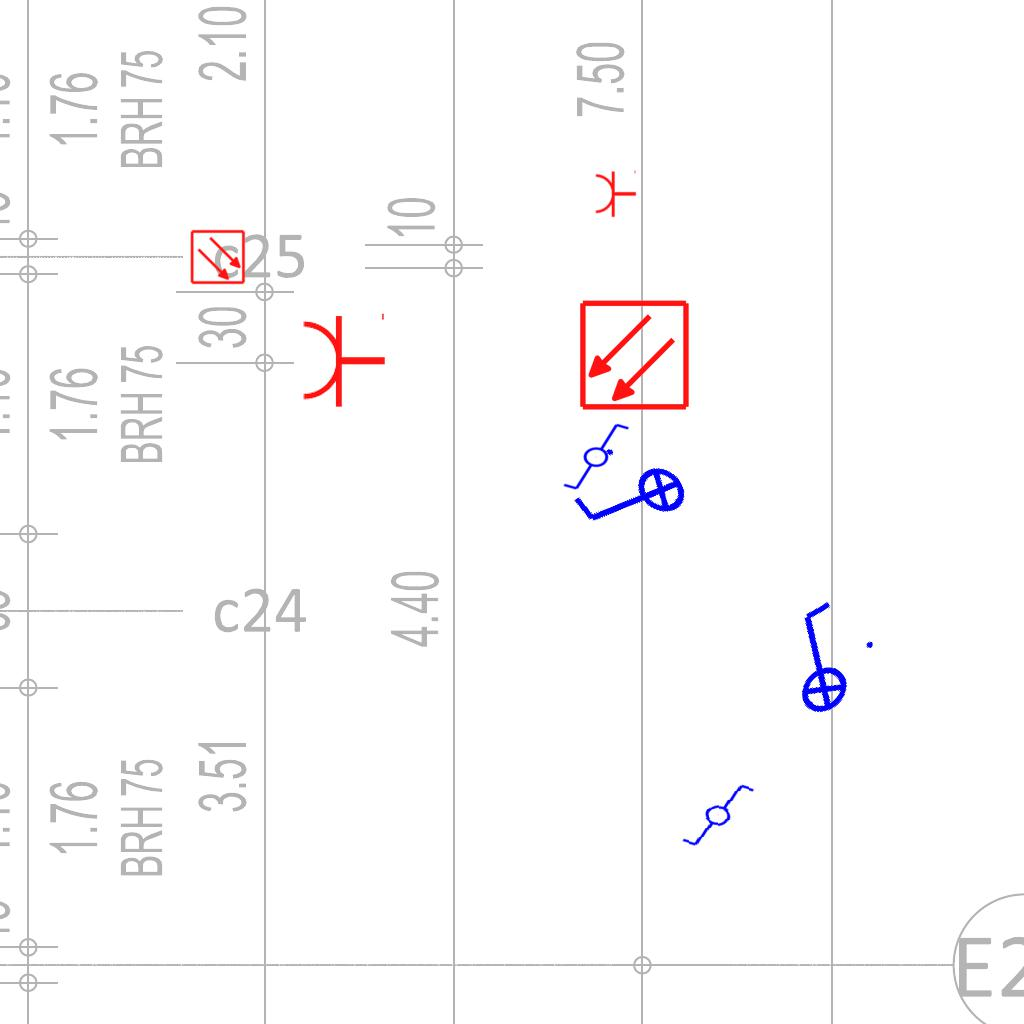Ausschalter_beleuchtet: (744, 585, 892, 733), (558, 429, 706, 573)
RMO_Rauchmelder_optischer: (578, 299, 691, 412), (190, 229, 246, 285)
Schukosteckdose_einfach: (300, 309, 387, 409), (594, 168, 637, 218)
Wechselschalter: (671, 774, 757, 854), (553, 420, 631, 492)
